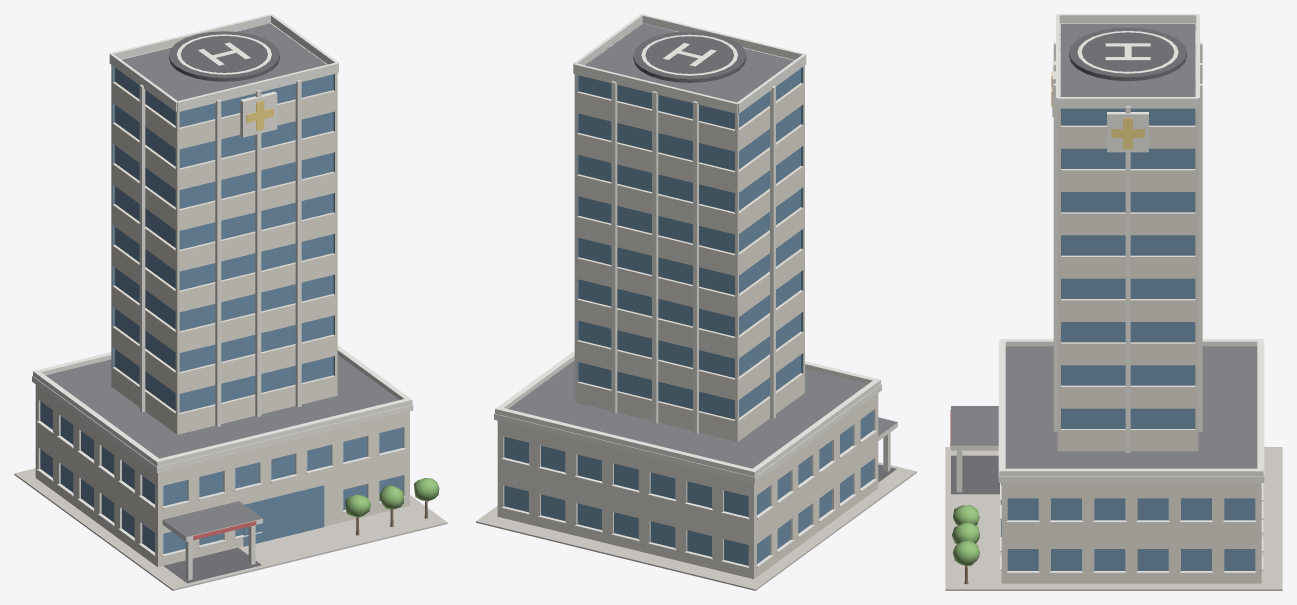
File: hospital.glb
The picture shows the model from 3 angles, left to right: view 1: azimuth 30°, elevation 25°; view 2: azimuth 150°, elevation 25°; view 3: azimuth 270°, elevation 25°; orthographic projection. The views are drawn at different scales.
Parts seen in each view (by area): view 1: hospital; view 2: hospital; view 3: hospital.
Part boxes in pixels (left/top/right/bottom): hospital: left=14, top=14, right=447, bottom=590; hospital: left=476, top=14, right=916, bottom=590; hospital: left=945, top=14, right=1282, bottom=590.
Bounding box in the file's own units: 24 × 36.76 × 24.
